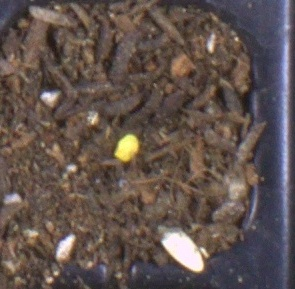chilli seed: (113, 133, 140, 163)
